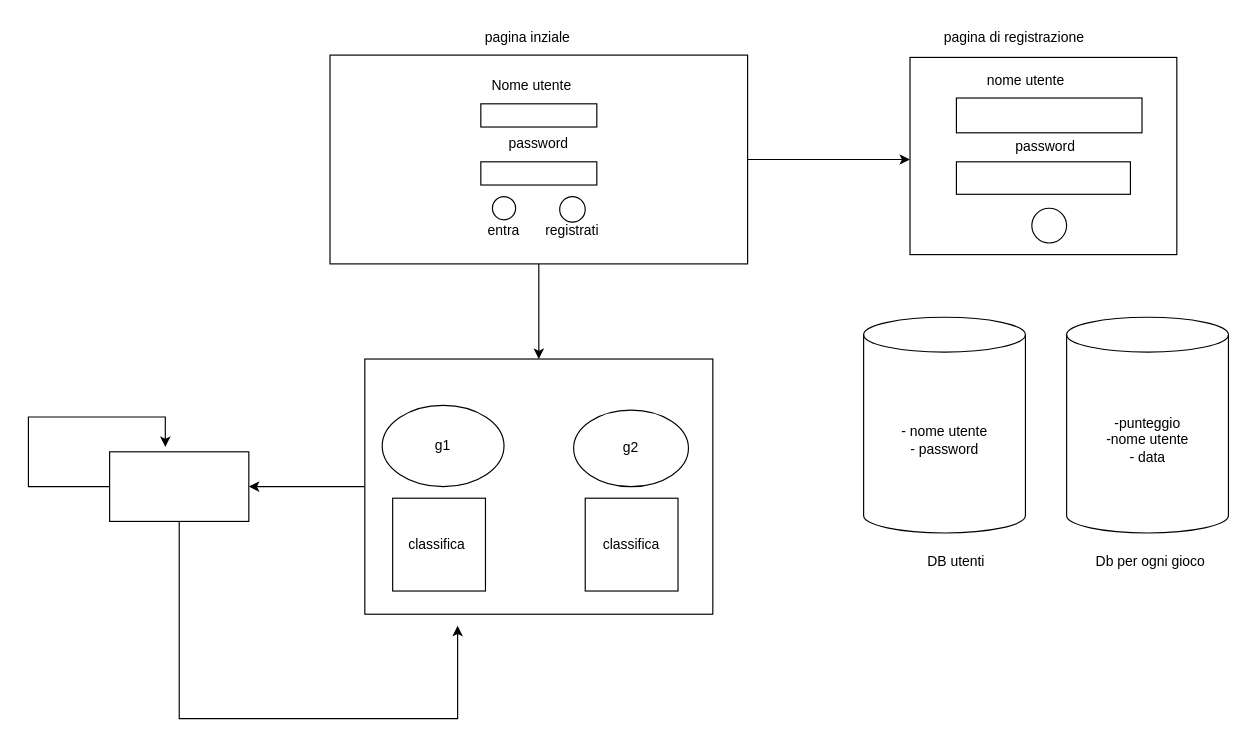
This 1249x748 diagram has some shape labels left out. Each missing label, with the centre of its shape:
invia: point 1049,225
pagina gioco: point 178,486
